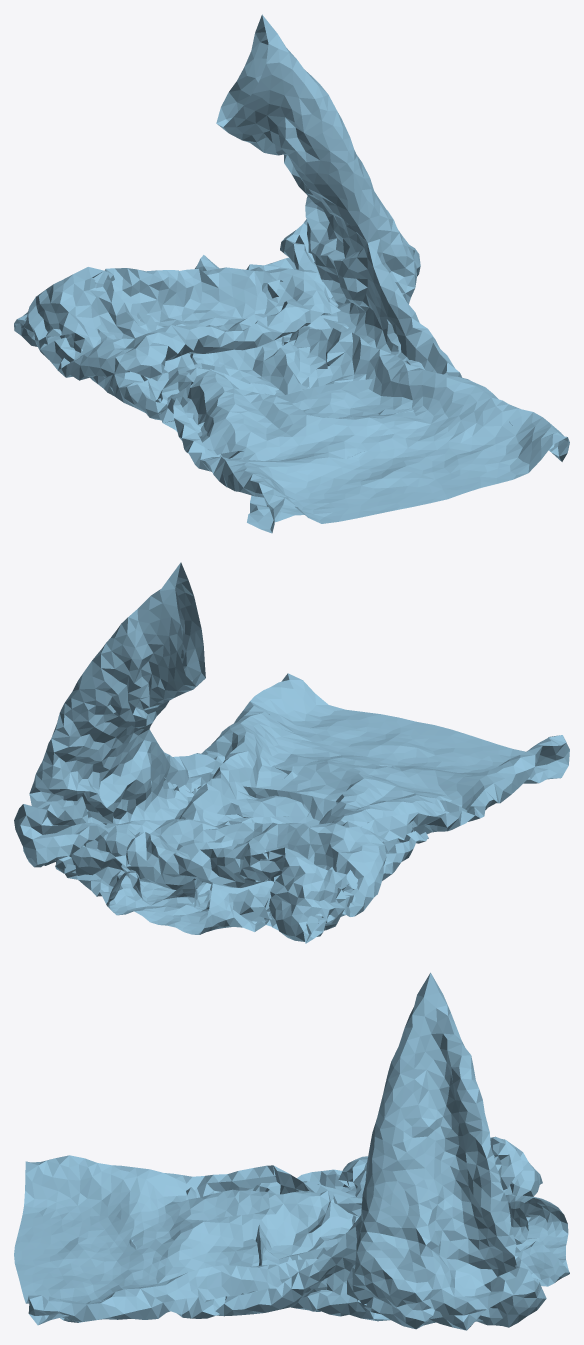
The model's file is frame_12.glb.
3 views of the same model, one above another, from view 1: azimuth 30°, elevation 25°; view 2: azimuth 150°, elevation 25°; view 3: azimuth 270°, elevation 25° (orthographic). The views are drawn at different scales.
Parts seen in each view (by area): view 1: frame_12.obj; view 2: frame_12.obj; view 3: frame_12.obj.
Boxes of the visible parts, x1,y1,x2,y2 form: frame_12.obj: [14, 14, 569, 533]; frame_12.obj: [14, 562, 569, 943]; frame_12.obj: [14, 972, 569, 1330].
Bounding box in the file's own units: 1.01 × 0.884 × 1.43.
